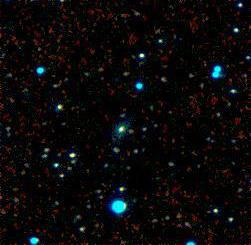star: (116, 118, 146, 148)
